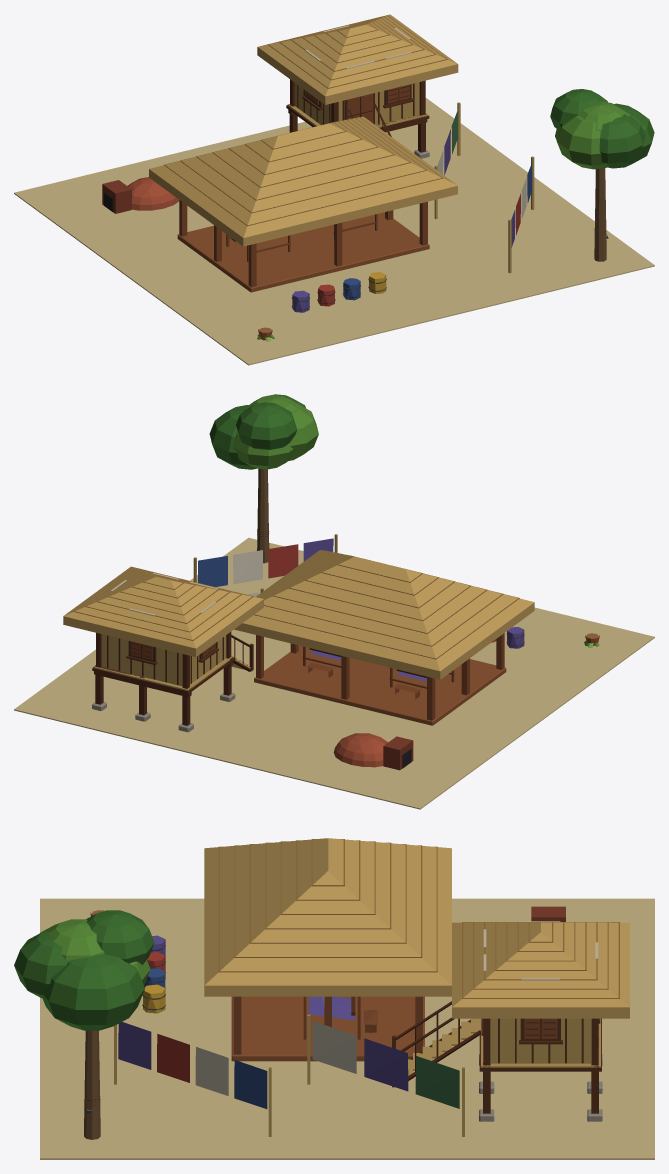
Rendered from factory_1.glb.
3 renders of one model, top to bottom at view 1: azimuth 30°, elevation 25°; view 2: azimuth 150°, elevation 25°; view 3: azimuth 270°, elevation 25°, orthographic. The views are drawn at different scales.
Parts seen in each view (by area): view 1: body; view 2: body; view 3: body.
Part boxes in pixels (x1=…): body: x1=14, y1=14, x2=654, y2=365; body: x1=14, y1=394, x2=654, y2=809; body: x1=14, y1=838, x2=654, y2=1159.
Size of the model in its own units: 16.41 by 6.46 by 16.58.
